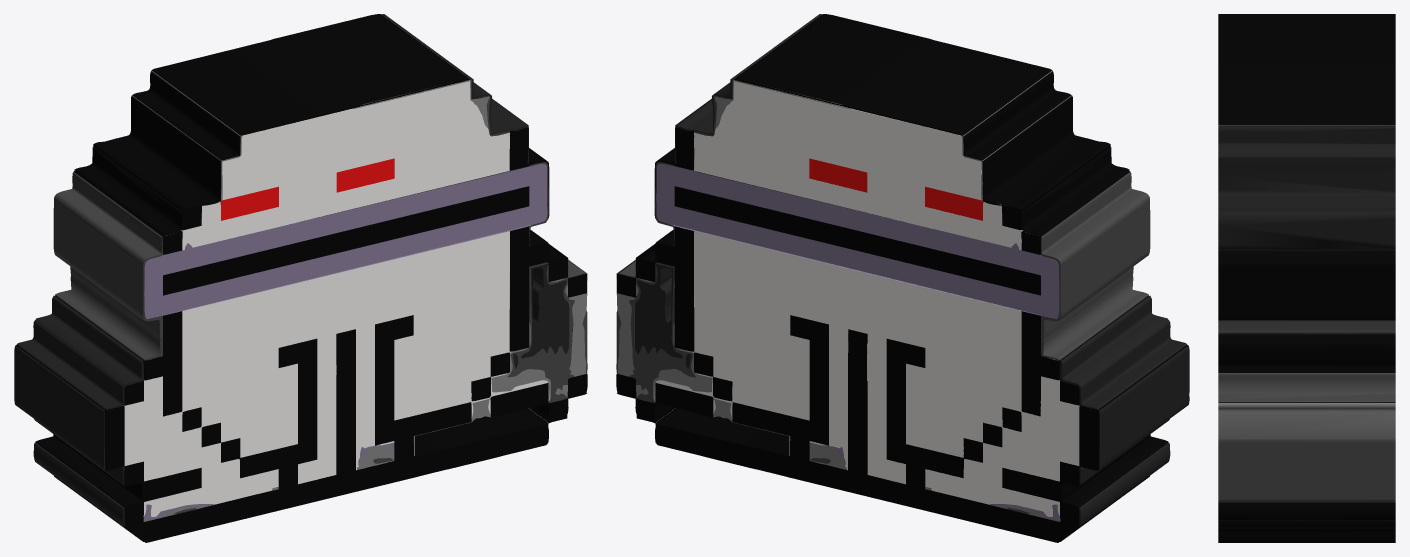
The model's file is Toadz_5109.glb.
3 renders of one model, left to right at view 1: azimuth 30°, elevation 25°; view 2: azimuth 150°, elevation 25°; view 3: azimuth 270°, elevation 25°, orthographic.
Parts seen in each view (by area): view 1: Curve; view 2: Curve; view 3: Curve.
Part boxes in pixels (left/top/right/bottom): Curve: left=14, top=14, right=587, bottom=542; Curve: left=616, top=14, right=1189, bottom=542; Curve: left=1218, top=14, right=1395, bottom=542.
Bounding box in the file's own units: 3.12 × 2.38 × 1.
